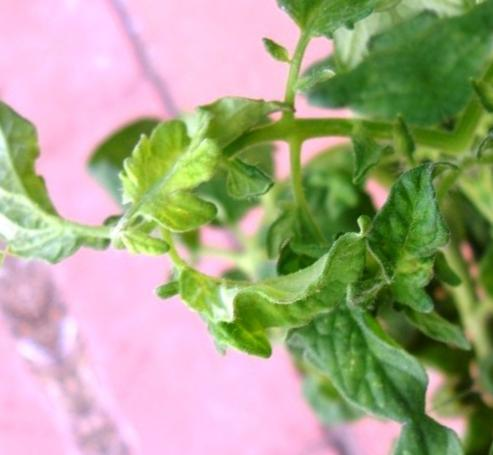Tomato leaf yellow virus: (153, 180, 416, 399), (85, 52, 317, 259), (276, 253, 461, 453), (0, 64, 120, 306), (233, 0, 400, 80)
